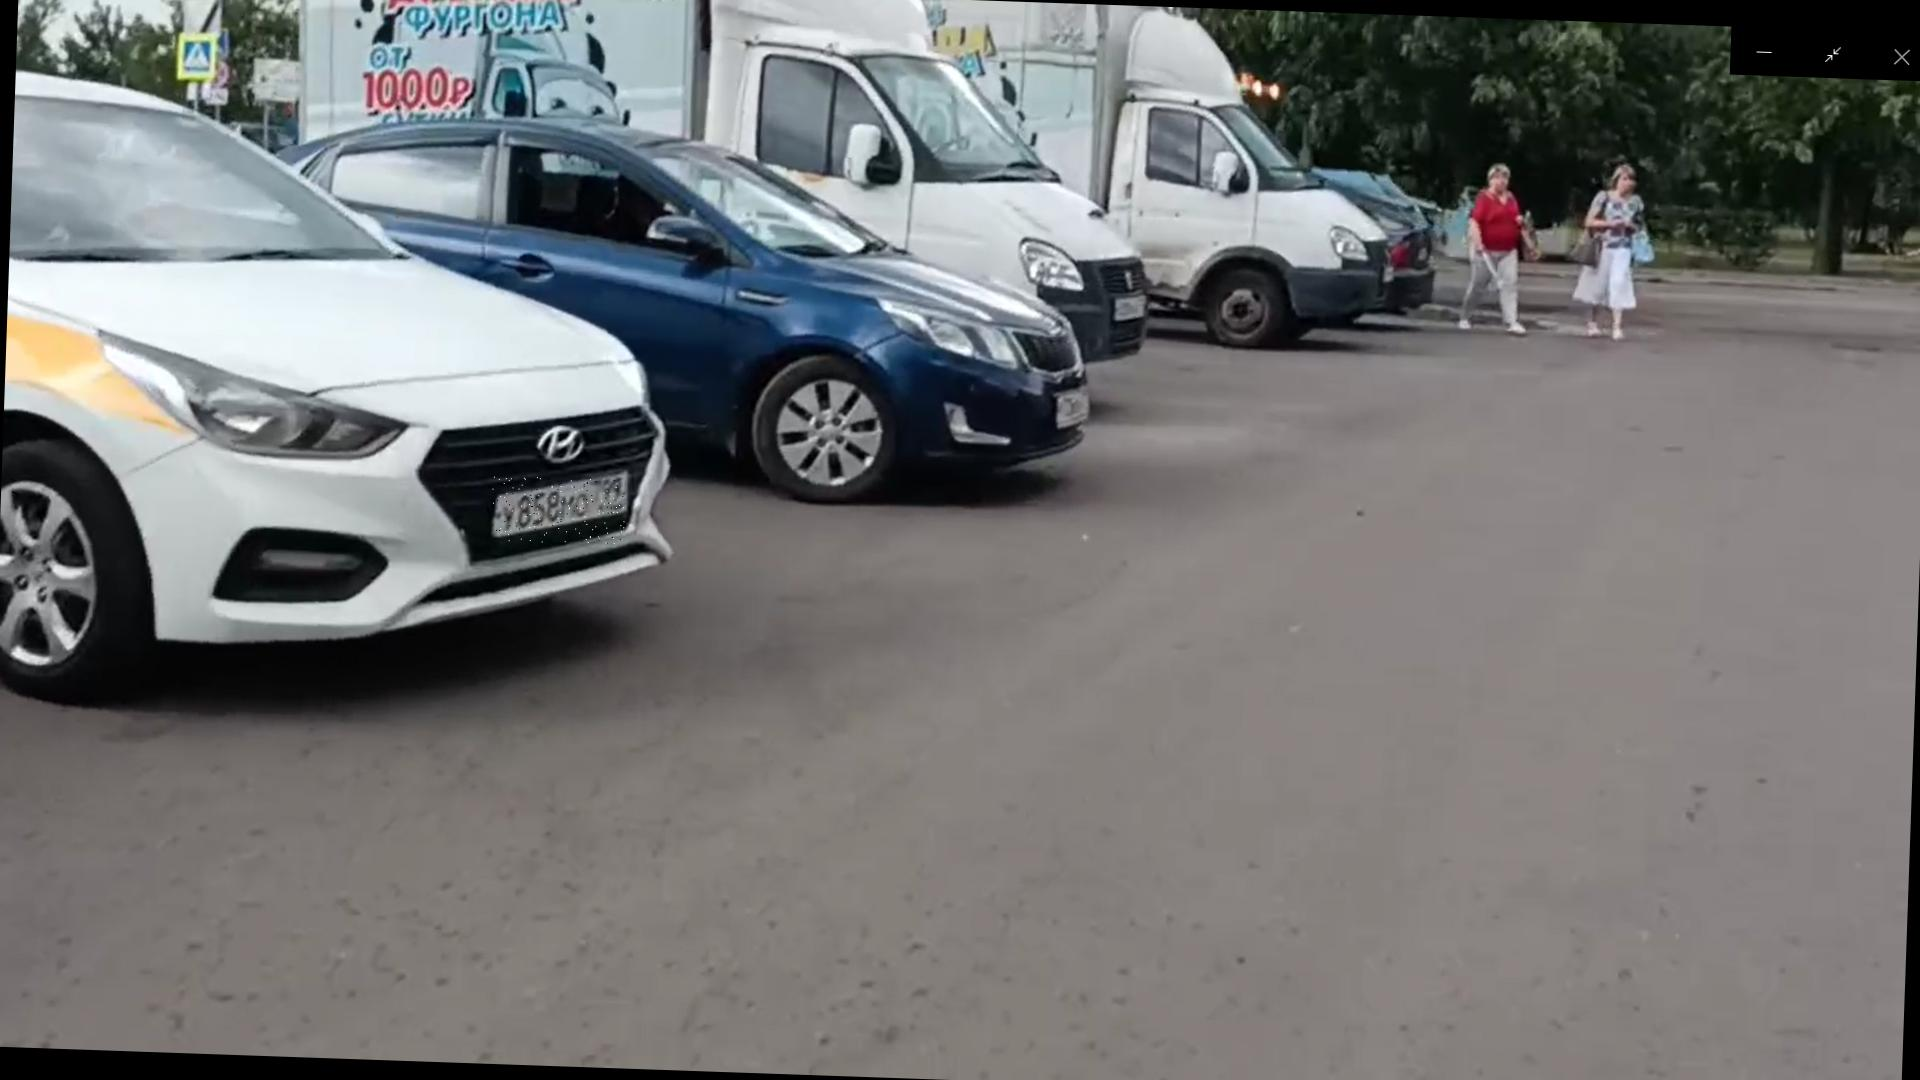plate: (493, 477, 628, 547)
